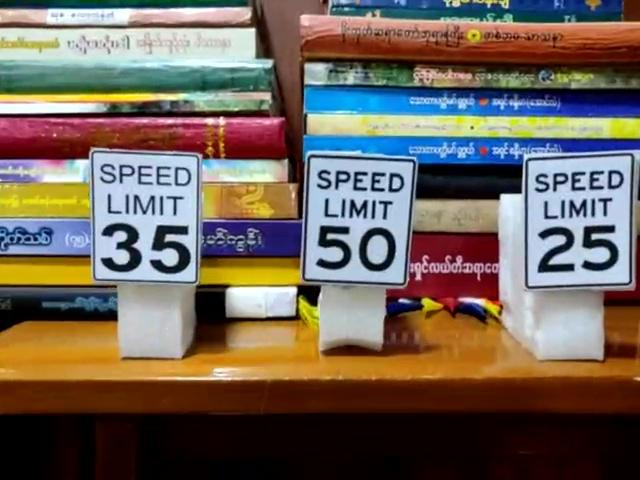Speed Limit 25: (520, 152, 638, 291)
Speed Limit 35: (86, 142, 201, 284)
Speed Limit 50: (301, 151, 419, 288)
